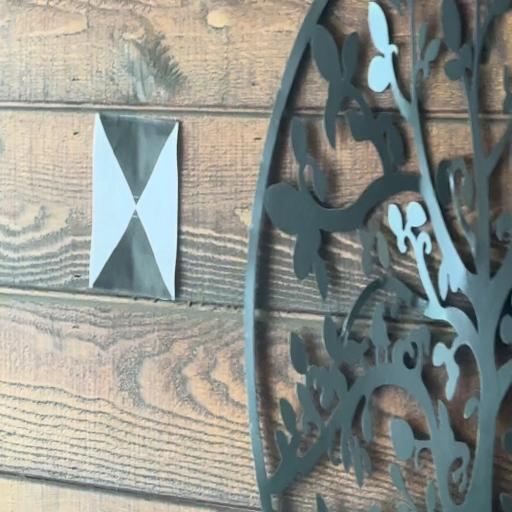target: (87, 114, 179, 300)
